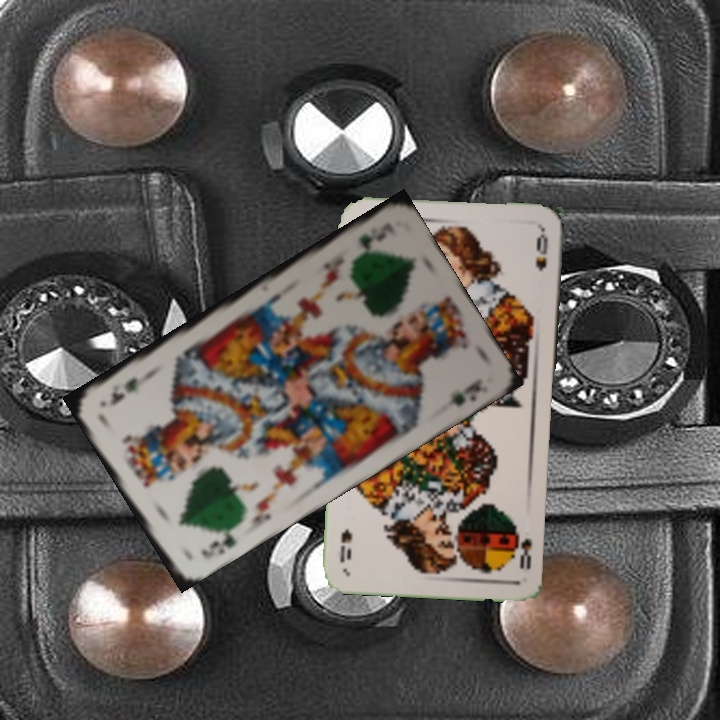GK: (197, 520, 239, 562), (355, 228, 390, 252)
SO: (514, 528, 534, 572)
